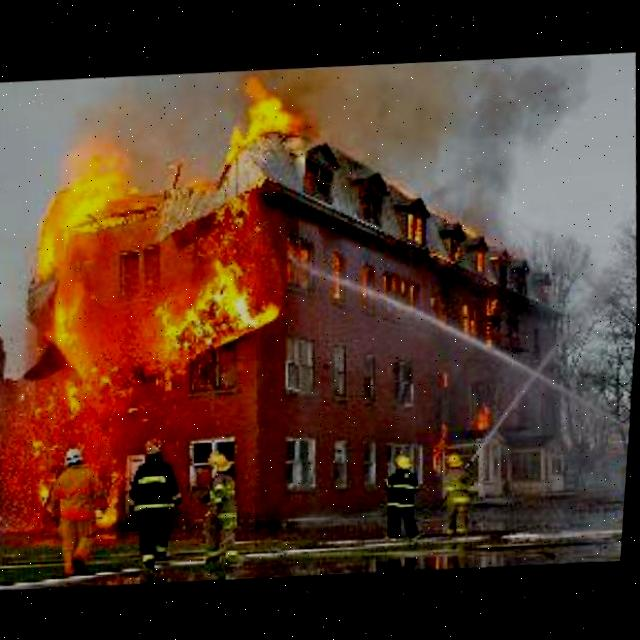fire: (0, 248, 315, 436), (16, 141, 172, 271), (221, 62, 323, 166), (2, 430, 73, 517), (428, 393, 506, 469), (97, 432, 139, 531), (468, 278, 510, 339), (395, 204, 441, 243), (328, 244, 356, 304), (384, 274, 424, 302)
